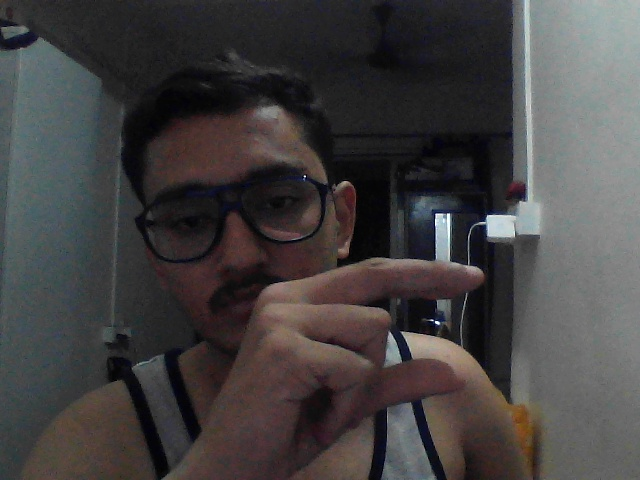No: (221, 215, 515, 452)
